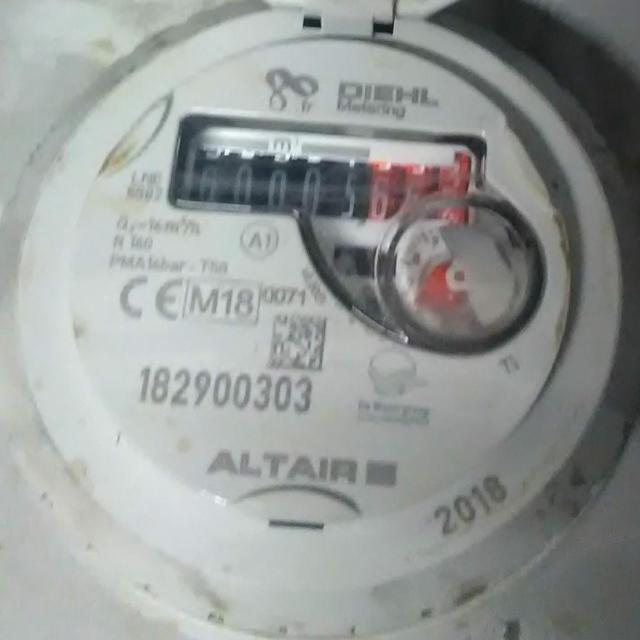gaz_meter: (68, 38, 576, 528)
indication: (171, 113, 482, 229)
